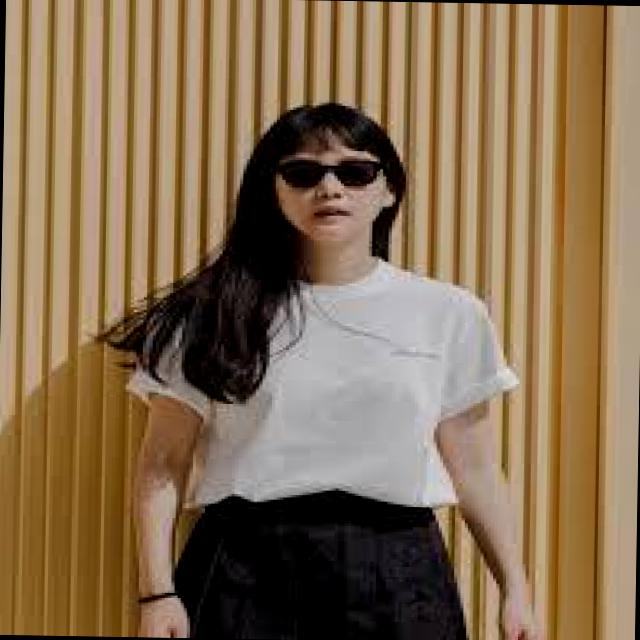Tshirt: (81, 244, 573, 520)
